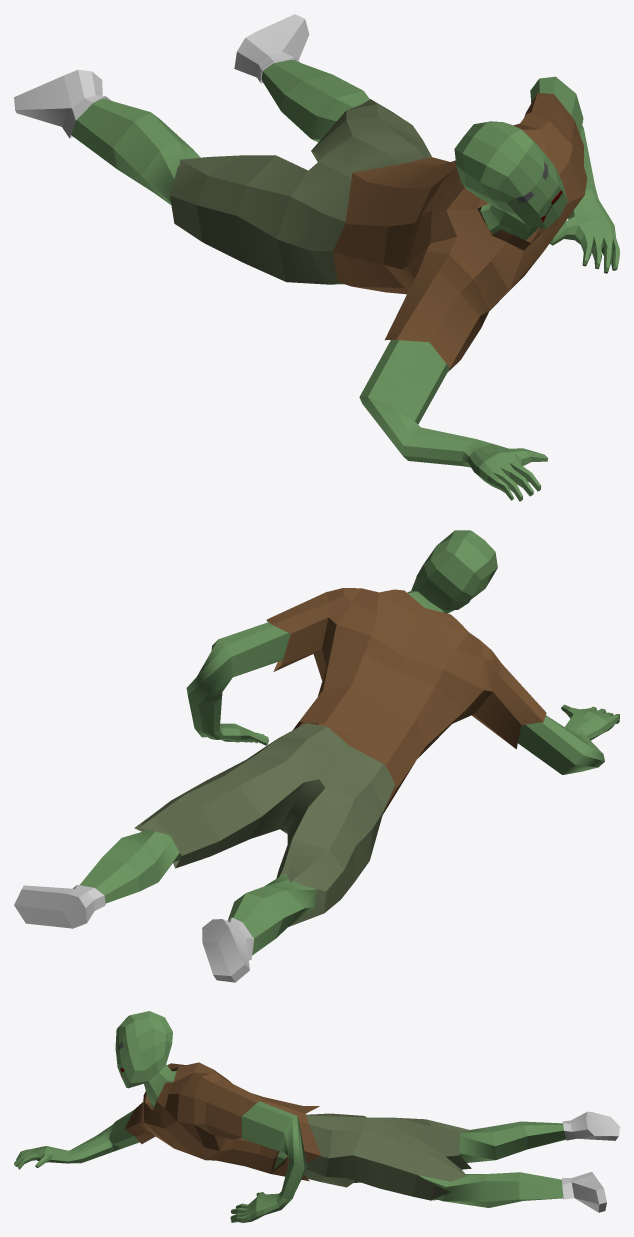
The model's file is ZombieCrawl(15).obj.
The picture shows the model from 3 angles, top to bottom: view 1: azimuth 30°, elevation 25°; view 2: azimuth 150°, elevation 25°; view 3: azimuth 270°, elevation 25°; orthographic projection. The views are drawn at different scales.
Parts seen in each view (by area): view 1: Object001; view 2: Object001; view 3: Object001.
Boxes of the visible parts, x1,y1,x2,y2 form: Object001: (14, 14, 619, 501); Object001: (14, 530, 619, 982); Object001: (14, 1011, 619, 1222).
Size of the model in its own units: 28.67 by 22.08 by 68.4.
